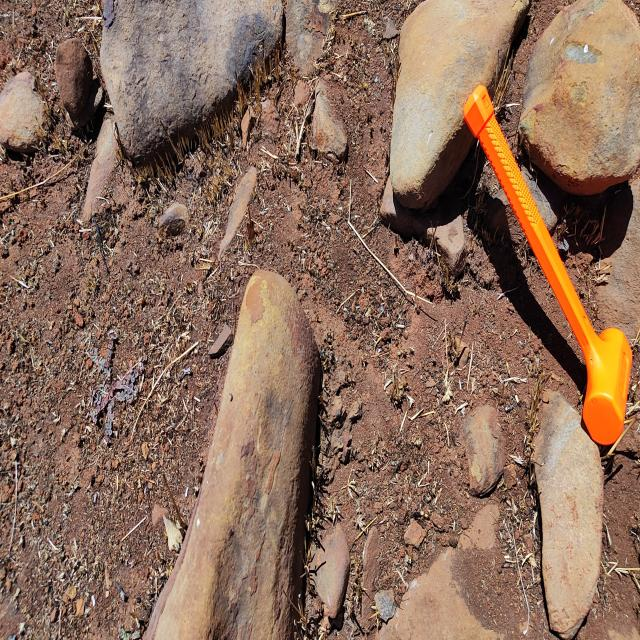Orange_hammer: (462, 82, 633, 448)
